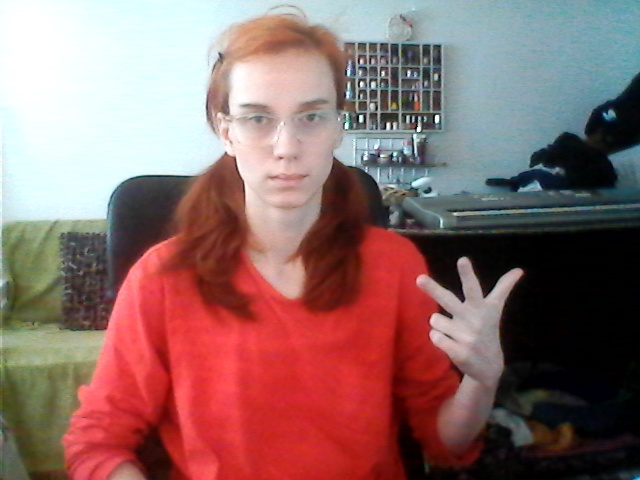tri: (403, 252, 534, 382)
